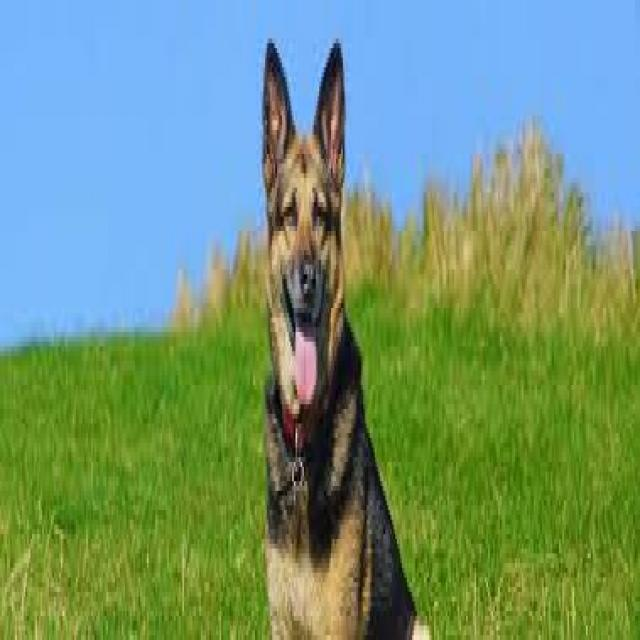Dog: (258, 33, 435, 640)
